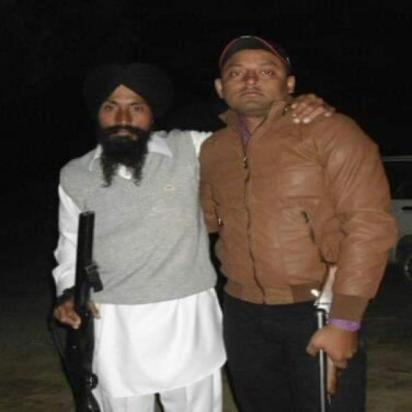Gun: (42, 209, 108, 411), (306, 264, 346, 411)
